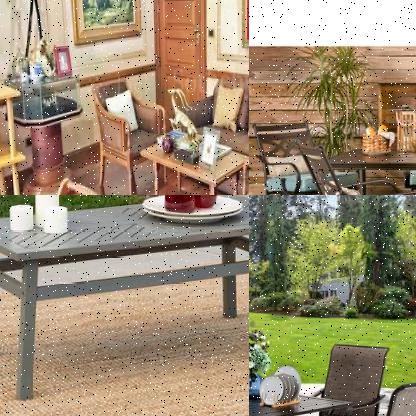table: (0, 195, 248, 404), (134, 125, 248, 194), (311, 139, 415, 194), (0, 73, 36, 194)
